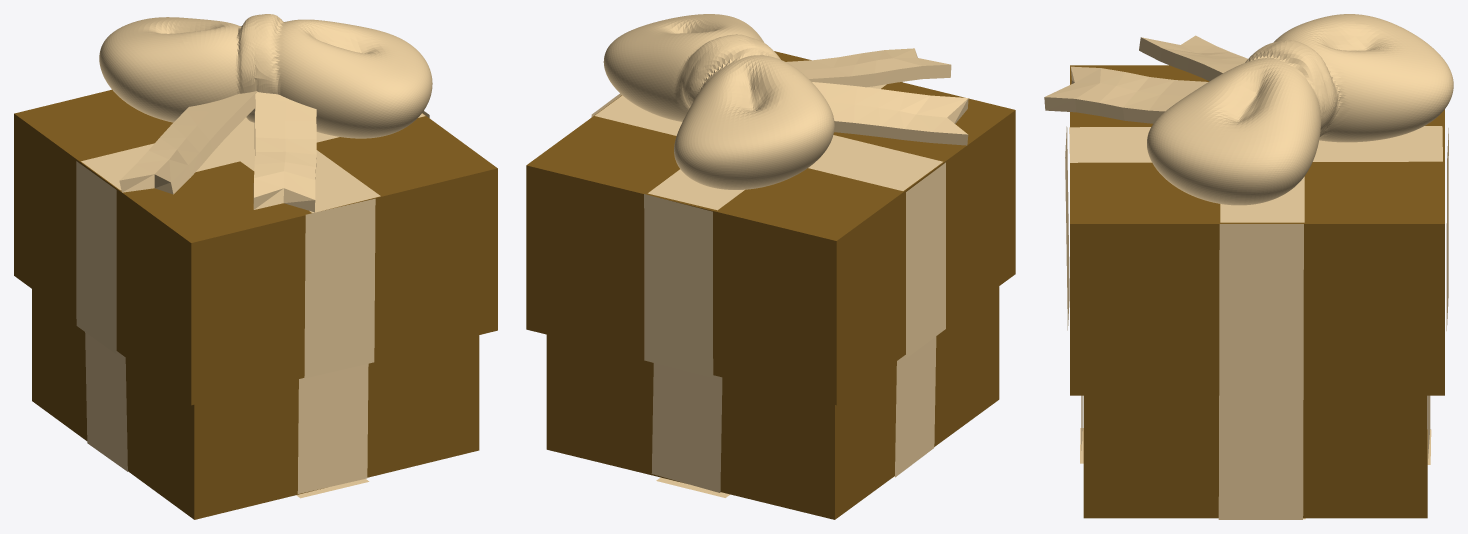
File: decoration_7_3.glb
3 renders of one model, left to right at view 1: azimuth 30°, elevation 25°; view 2: azimuth 150°, elevation 25°; view 3: azimuth 270°, elevation 25°, orthographic. The views are drawn at different scales.
Parts seen in each view (by area): view 1: Box, Sphere 2, Box 1, Plane; view 2: Box, Box 1, Plane, Sphere 2; view 3: Box, Sphere 2, Plane, Box 1.
Part boxes in pixels (x1,y1,x2,y2): Box: [14, 89, 497, 405]; Sphere 2: [99, 14, 432, 212]; Box 1: [32, 289, 479, 519]; Plane: [76, 111, 429, 498]; Box: [526, 51, 1015, 405]; Box 1: [546, 286, 999, 519]; Plane: [591, 82, 945, 497]; Sphere 2: [603, 14, 968, 189]; Box: [1070, 65, 1444, 395]; Sphere 2: [1044, 14, 1453, 205]; Plane: [1065, 126, 1448, 519]; Box 1: [1083, 395, 1427, 518].
Size of the model in its own units: 0.2836 by 0.3255 by 0.2912.
